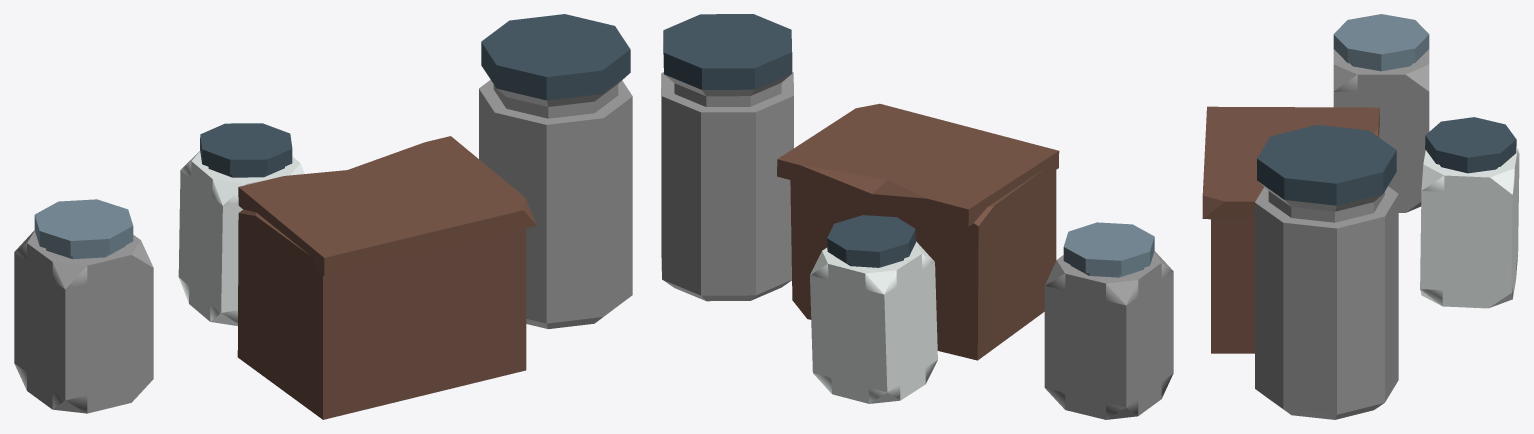
File: scene_2z03VIsLHQ.glb
3 views of the same model, side by side, from view 1: azimuth 30°, elevation 25°; view 2: azimuth 150°, elevation 25°; view 3: azimuth 270°, elevation 25° (orthographic). The views are drawn at different scales.
Parts seen in each view (by area): view 1: Desk clutter; view 2: Desk clutter; view 3: Desk clutter.
Boxes of the visible parts, x1,y1,x2,y2 form: Desk clutter: (14, 14, 632, 419); Desk clutter: (661, 14, 1173, 419); Desk clutter: (1202, 14, 1519, 419).
Size of the model in its own units: 0.5628 by 0.2513 by 0.2979.
